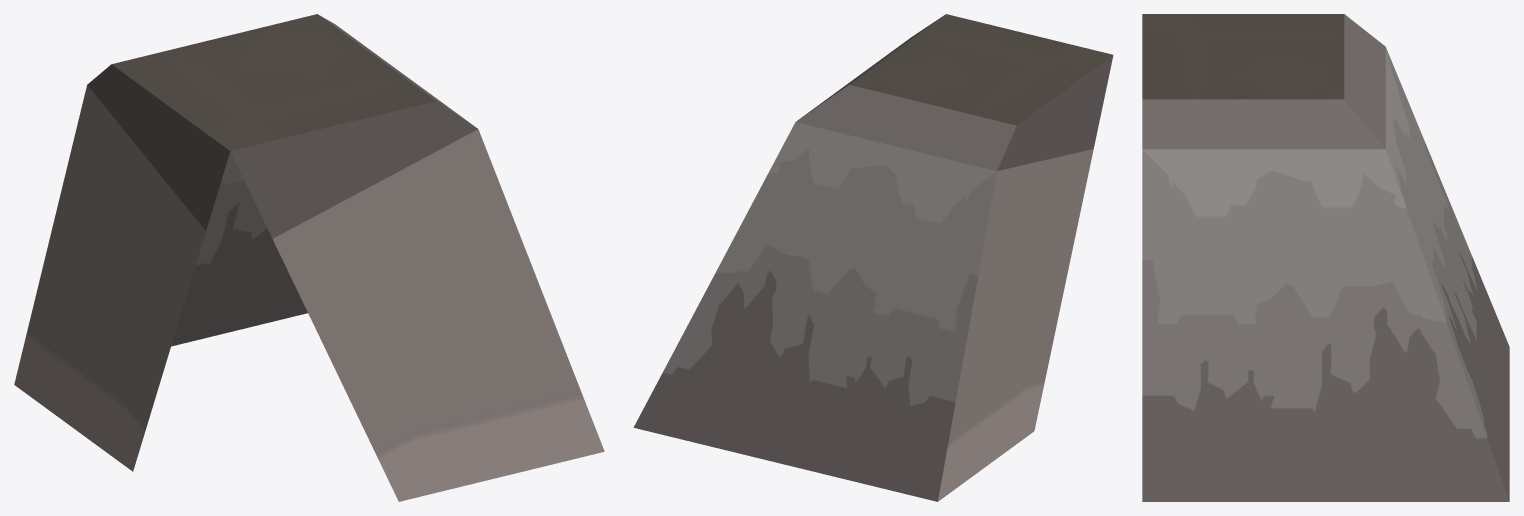
Rendered from SM_Building_Sewer_04.fbx.
The picture shows the model from 3 angles, left to right: view 1: azimuth 30°, elevation 25°; view 2: azimuth 150°, elevation 25°; view 3: azimuth 270°, elevation 25°; orthographic projection. The views are drawn at different scales.
Visible parts, largest first — view 1: SM_Building_Sewer_04; view 2: SM_Building_Sewer_04; view 3: SM_Building_Sewer_04.
Part boxes in pixels (x1,y1,x2,y2): SM_Building_Sewer_04: (14,14,604,501); SM_Building_Sewer_04: (633,14,1113,501); SM_Building_Sewer_04: (1142,14,1509,501).
Bounding box in the file's own units: 2 × 2 × 2.
